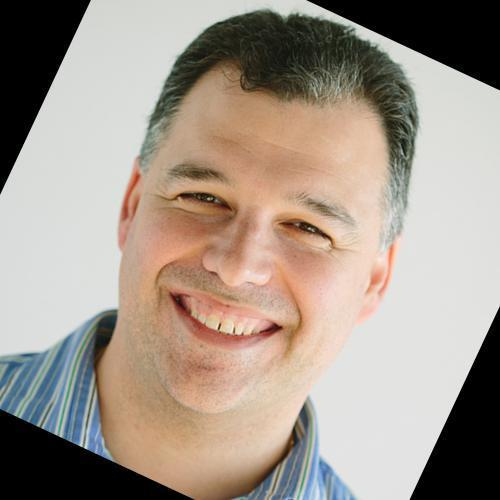Sober: (152, 89, 368, 381)
